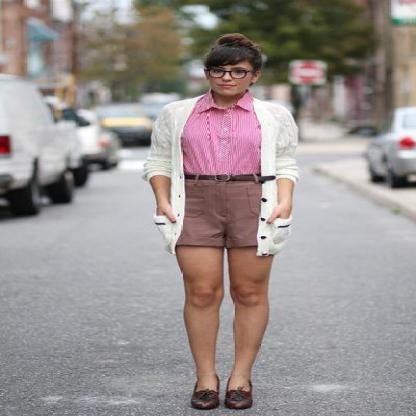jacket: (137, 95, 304, 255)
shirt: (180, 95, 261, 176)
shoe: (190, 380, 252, 410)
shorts: (174, 174, 274, 258)
